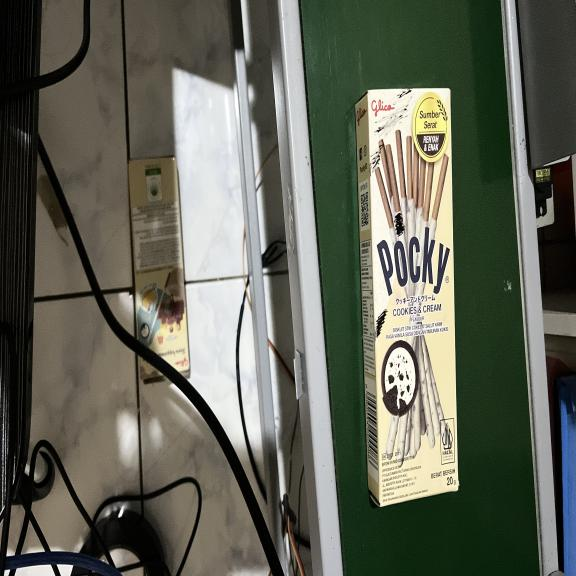Kertas: (365, 85, 461, 516)
